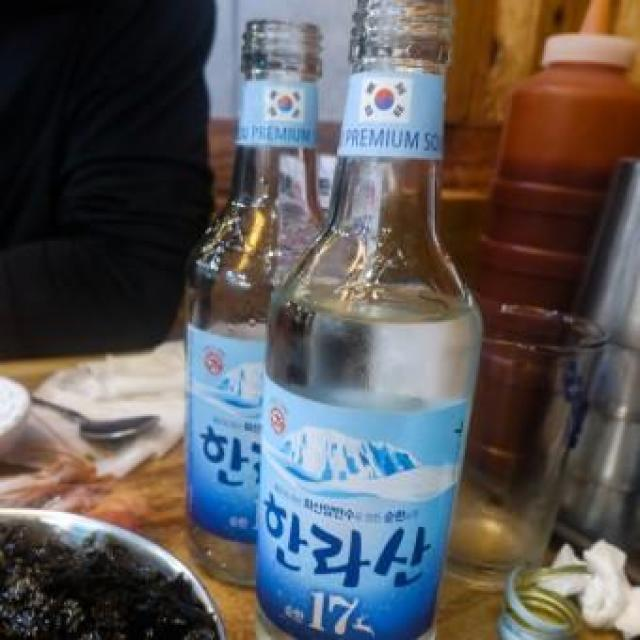soju-bottle: (254, 2, 486, 638), (184, 17, 336, 589)
